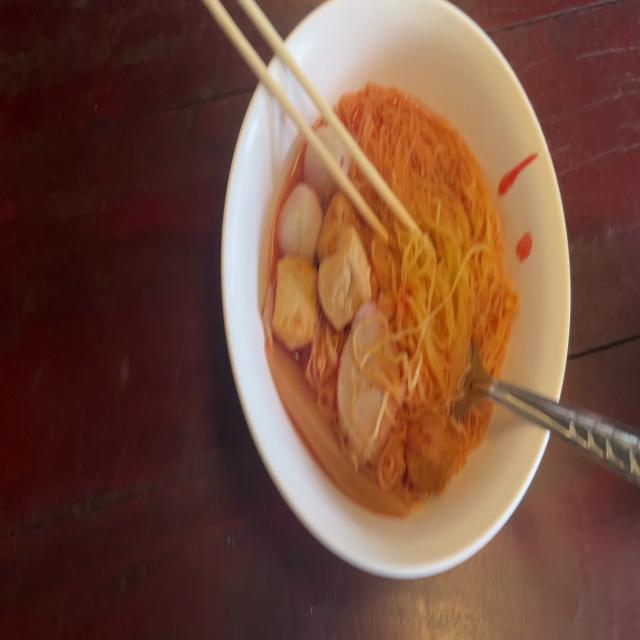crunchy_squid: (264, 338, 408, 518)
egg_noodles: (345, 85, 520, 477)
fish_ball: (275, 180, 324, 264), (306, 125, 350, 200)
fried_fish_balls: (336, 300, 404, 466)
fried_tofu: (320, 232, 370, 323), (319, 192, 361, 270)
noodle: (274, 90, 506, 494)
tofu: (274, 255, 320, 348)
